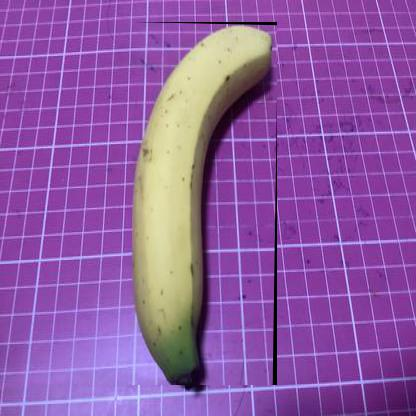bananarotation: (132, 22, 278, 386)
